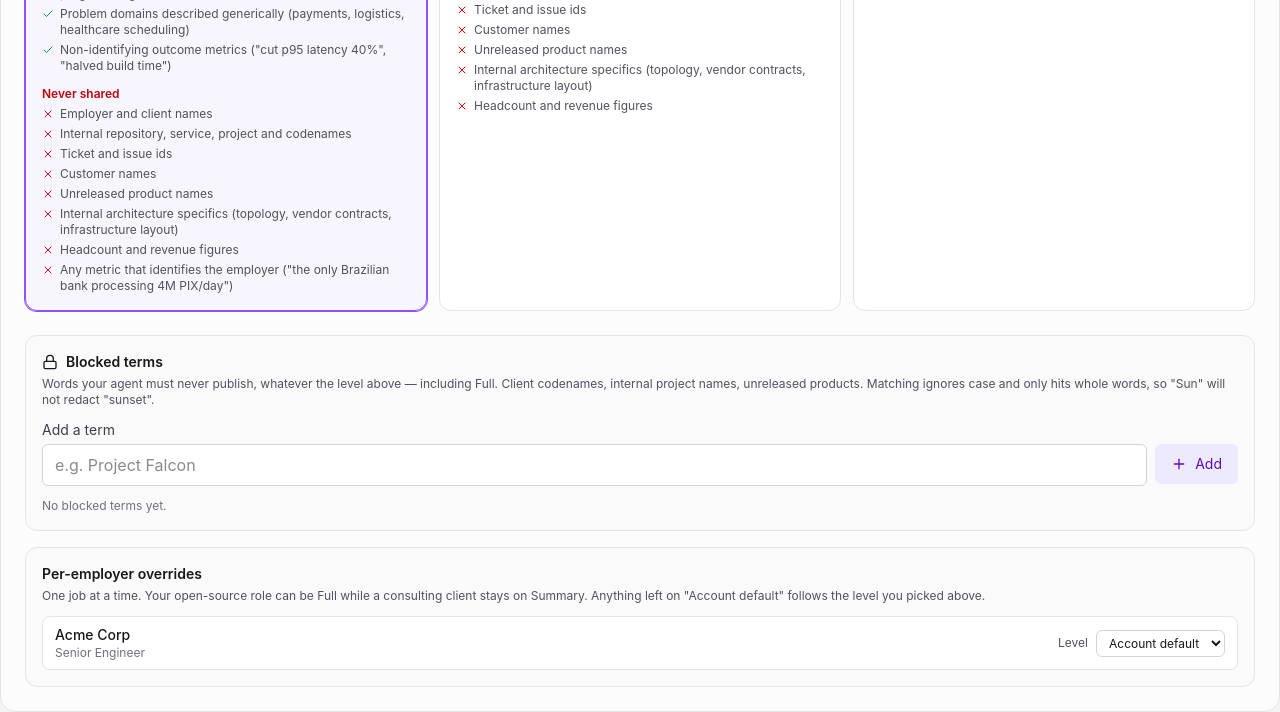
it: DisclosurePanel › rejects a term shorter than 2 characters instead of saving it
(page scrolled)
Step 1. Type "x" into the field labelled "Add a term" → (595, 465), box [42,444,1147,486]
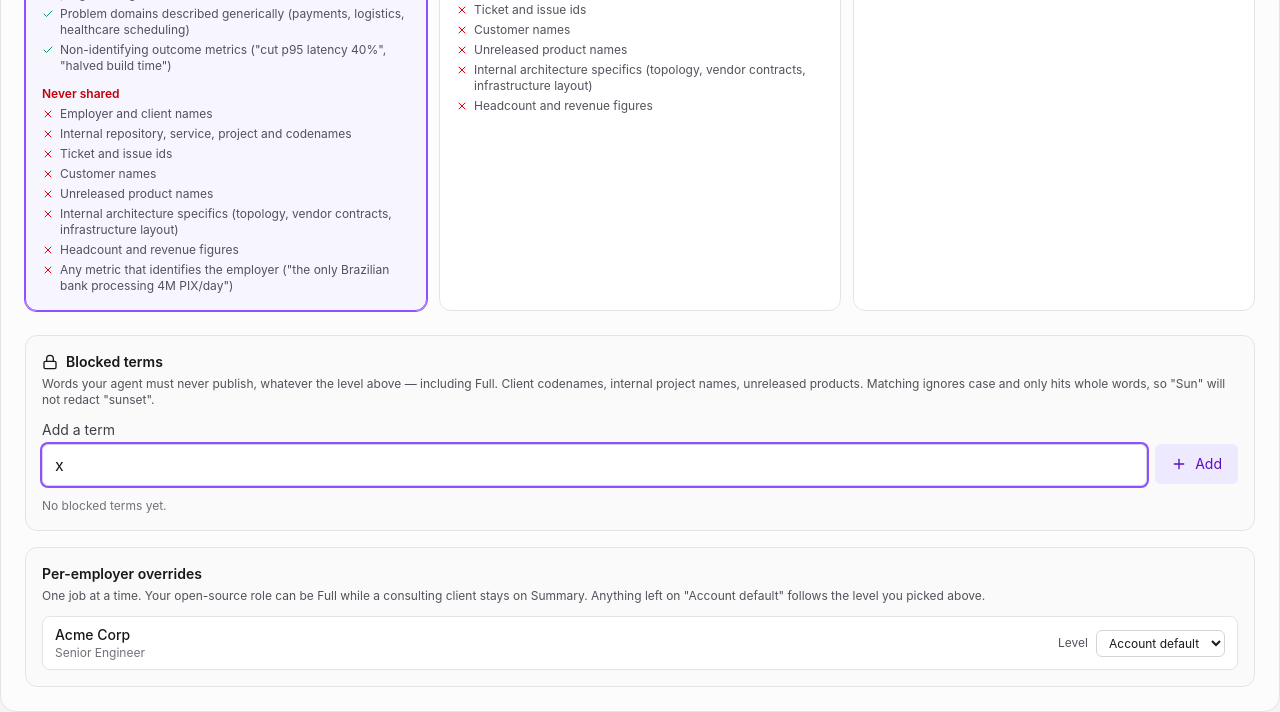
Step 2. Click the button "Add" → (1197, 464), box [1155,444,1238,484]
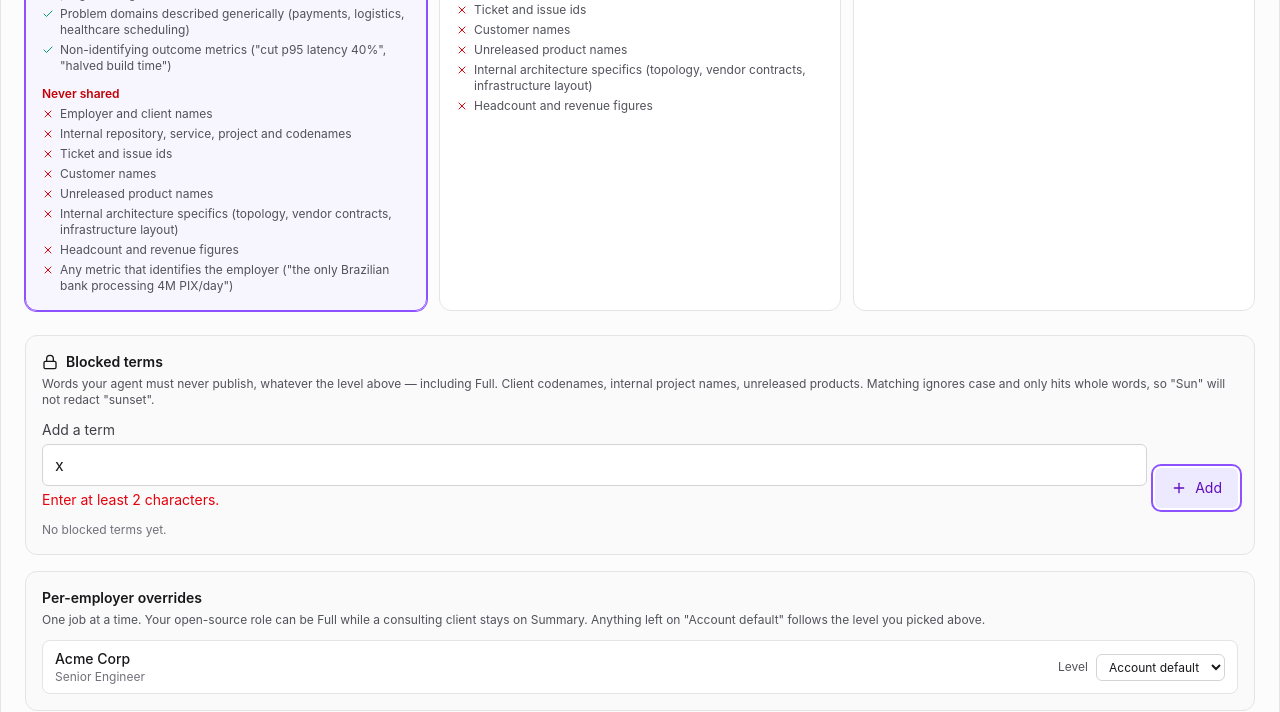
Expected: the text "Enter at least 2 characters." is shown, [42,491,219,508]
